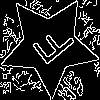F: (24, 20, 77, 74)
